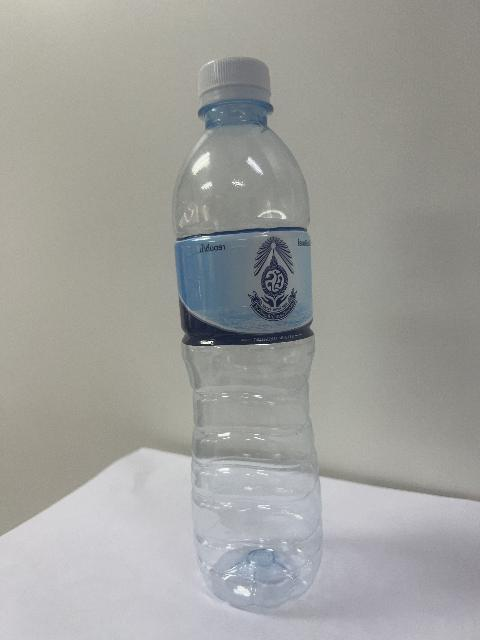bottle: (173, 58, 322, 606)
